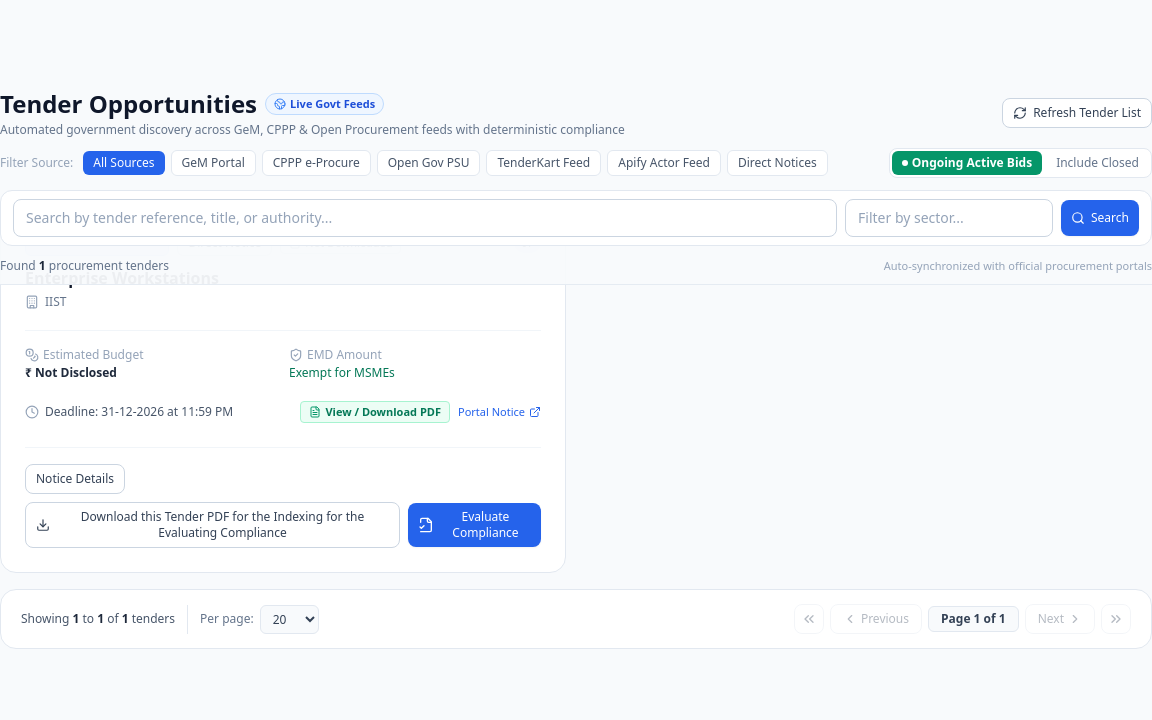
Test: TendersListPage Component › guards Evaluate Compliance when tender has no indexed documents and shows mandatory alert modal
Click the button "Evaluate Compliance" at (474, 525), box [408,503,541,547]
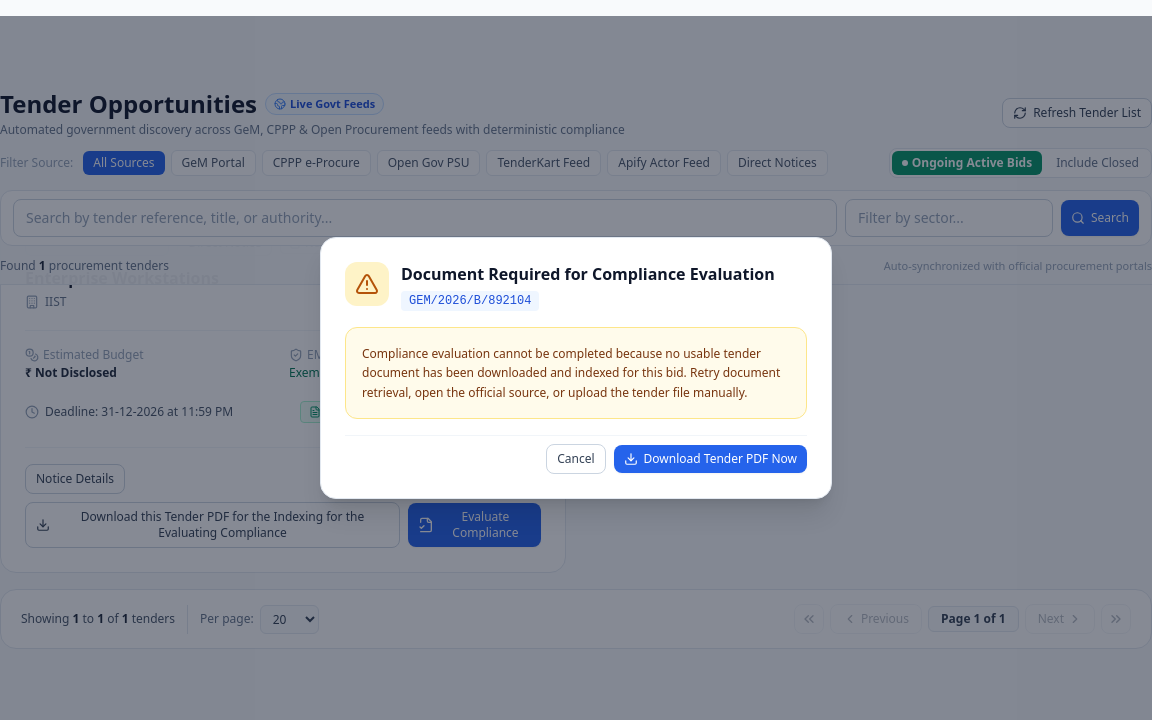
Expected: the element with test id "unindexed-document-guard-modal" is shown
Expected: the text "Compliance evaluation cannot be completed because no usable tender document has been downloaded and indexed for this bid" is shown, [362,345,780,401]
Expected: the button "Download Tender PDF Now" is shown, [614,445,807,473]
